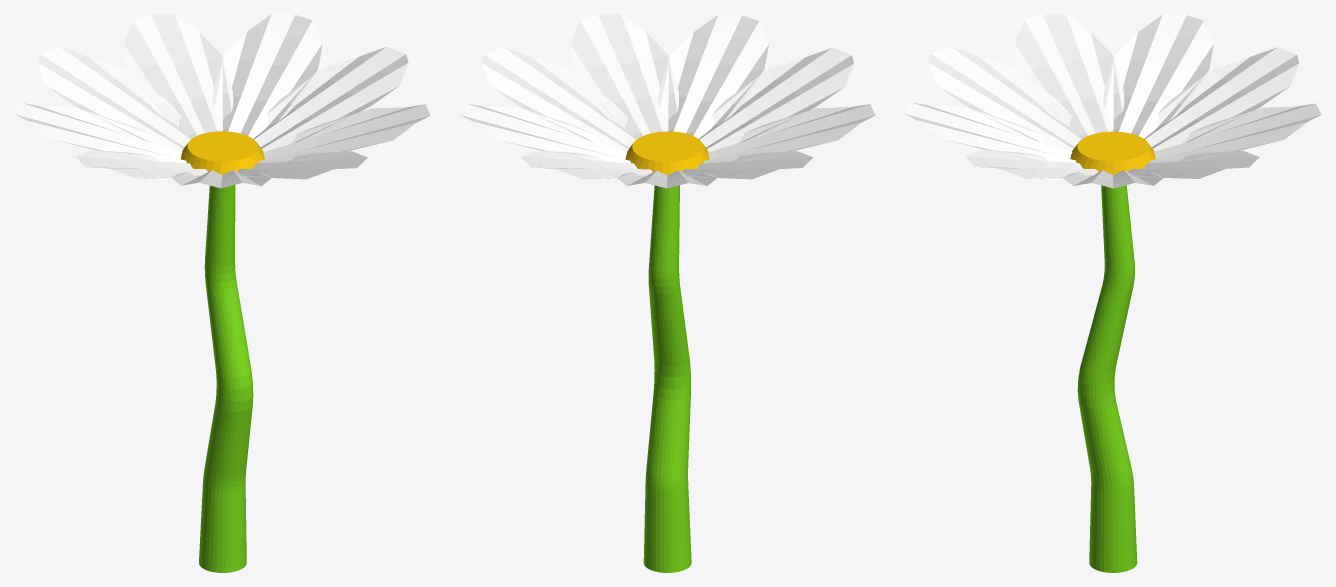
Rendered from blume.obj.
The picture shows the model from 3 angles, left to right: view 1: azimuth 30°, elevation 25°; view 2: azimuth 150°, elevation 25°; view 3: azimuth 270°, elevation 25°; orthographic projection.
Parts seen in each view (by area): view 1: Circle.001; view 2: Circle.001; view 3: Circle.001.
Boxes of the visible parts, x1,y1,x2,y2 form: Circle.001: (14,14,430,572); Circle.001: (459,14,875,572); Circle.001: (904,14,1321,572).
Bounding box in the file's own units: 0.6663 × 0.8319 × 0.6762.
3 materials, 3 textured.
